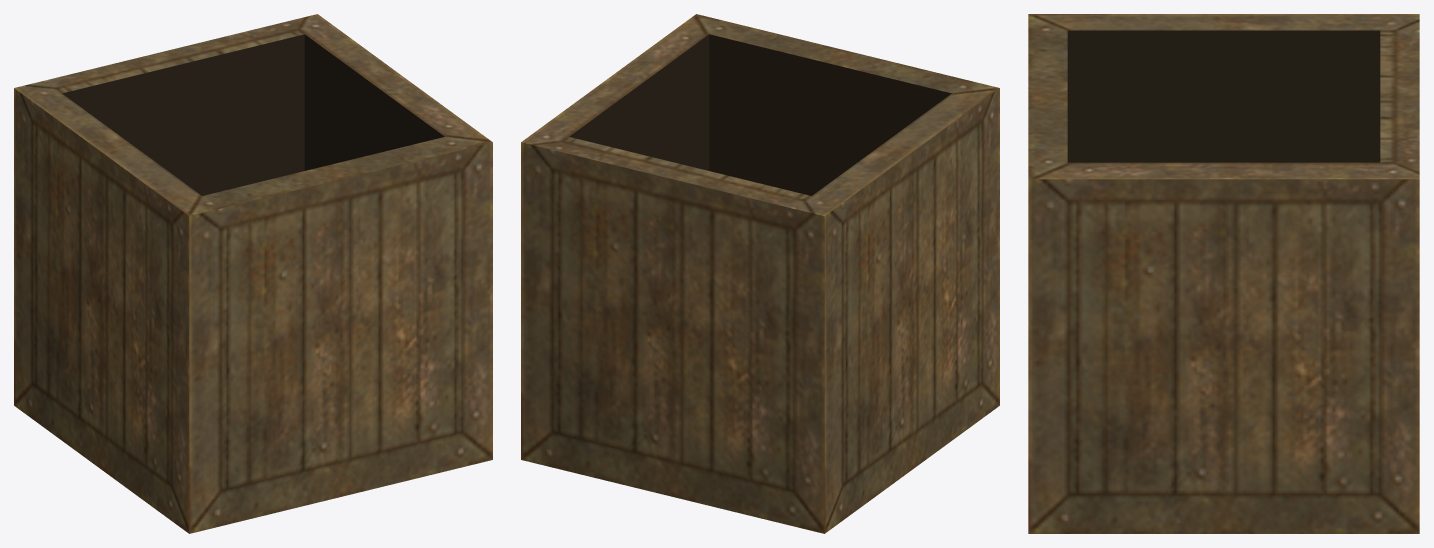
Rendered from CrateOpen.glb.
The picture shows the model from 3 angles, left to right: view 1: azimuth 30°, elevation 25°; view 2: azimuth 150°, elevation 25°; view 3: azimuth 270°, elevation 25°; orthographic projection. The views are drawn at different scales.
Parts seen in each view (by area): view 1: CrateOpen; view 2: CrateOpen; view 3: CrateOpen.
Part boxes in pixels (box(x1,y1,x2,y2)): CrateOpen: box(14, 14, 492, 533); CrateOpen: box(521, 14, 999, 533); CrateOpen: box(1028, 14, 1419, 533).
Size of what is drawn, in the model's own units: 0.9043 by 0.9043 by 0.9043.
Materials: 1 (1 with a texture image).
